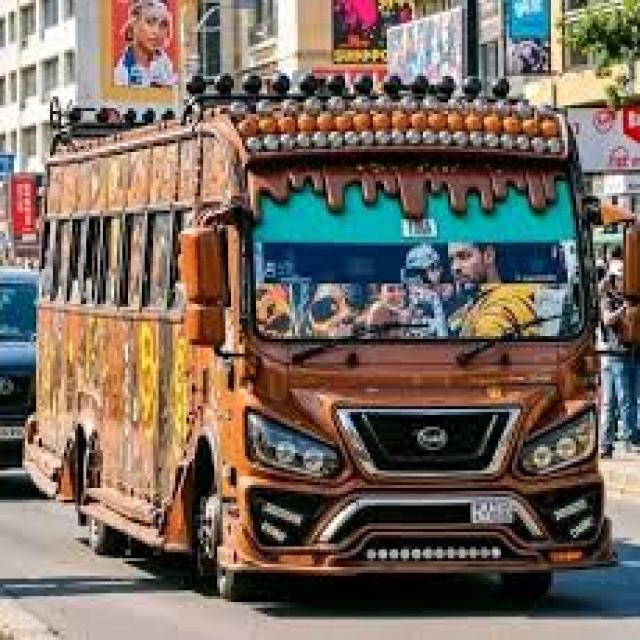bus: (5, 46, 633, 604)
